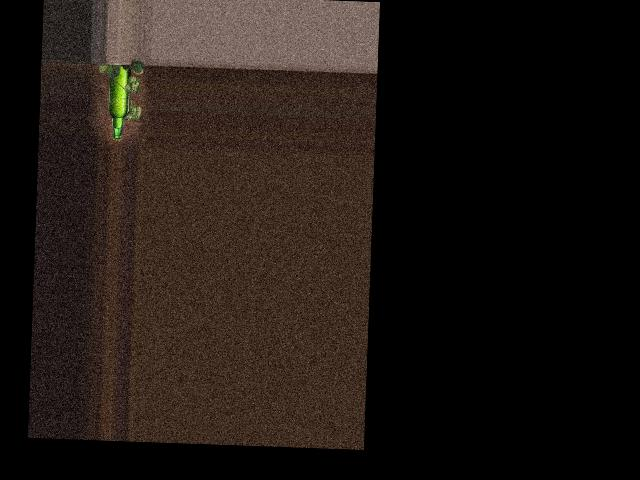beer: (106, 63, 129, 141)
